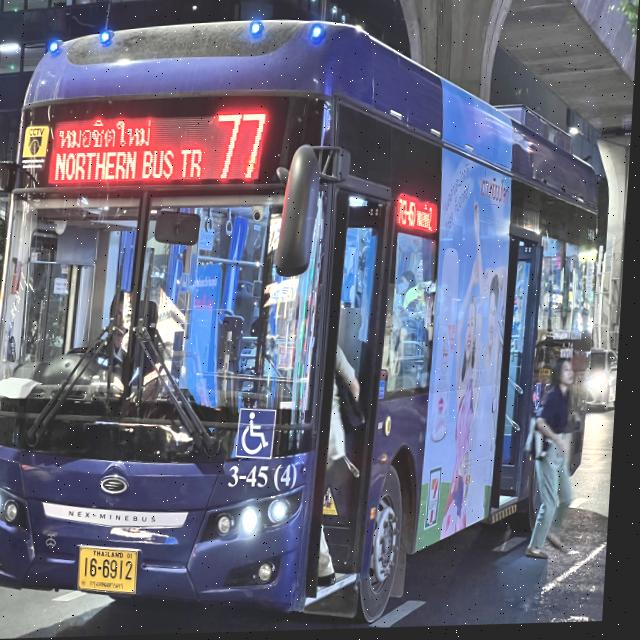Bus-Line-Number: (208, 105, 273, 190)
Destination-Sign-Normal: (53, 113, 211, 191)
TSB-Bus: (0, 4, 620, 639)
